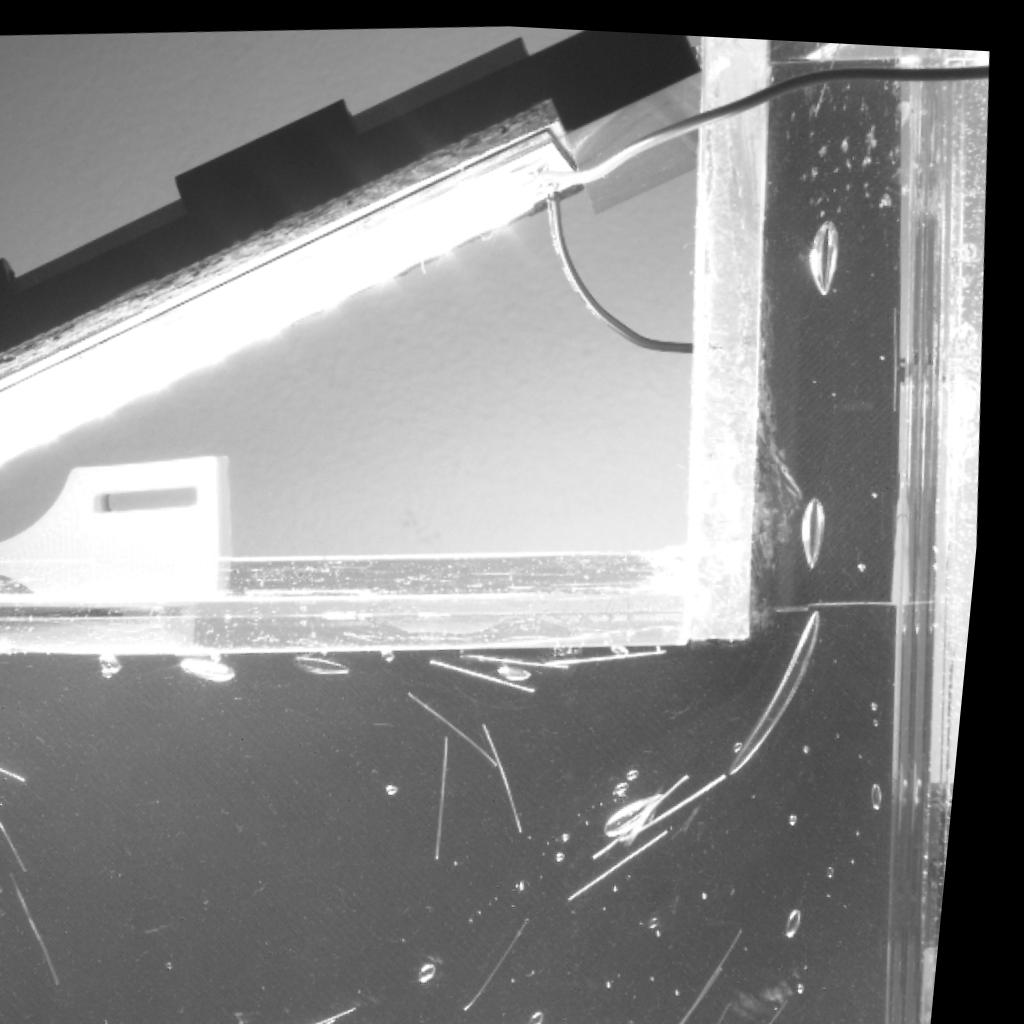Fiber: (599, 760, 714, 855), (577, 818, 692, 899), (633, 761, 746, 842), (420, 678, 516, 768), (477, 908, 553, 1011), (23, 869, 84, 990), (694, 916, 763, 1021), (492, 712, 543, 828), (440, 648, 553, 691), (0, 783, 53, 872), (687, 953, 746, 1024), (807, 34, 850, 108), (554, 639, 681, 659), (449, 727, 467, 855), (473, 644, 583, 664), (772, 982, 817, 1024), (311, 997, 380, 1024), (0, 756, 48, 785), (896, 292, 906, 405), (730, 987, 757, 1024), (324, 1010, 359, 1024), (386, 1009, 403, 1024), (379, 1017, 392, 1024)
